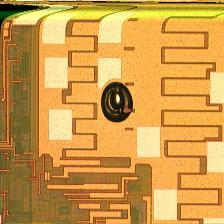PARTICLE: (100, 79, 136, 125)
